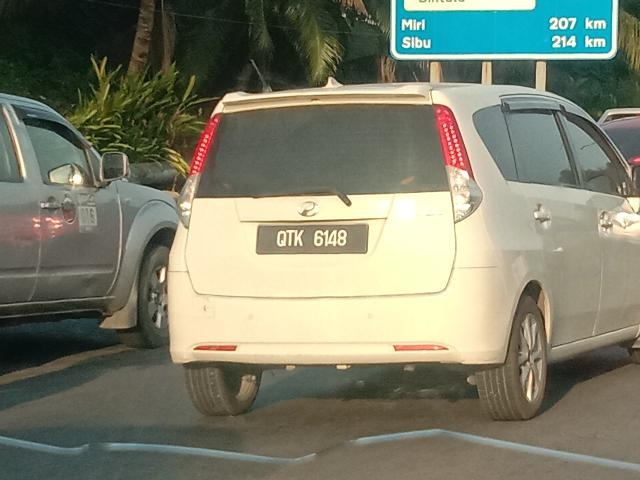License_Plate: (258, 225, 369, 255)
car: (155, 66, 640, 421)
